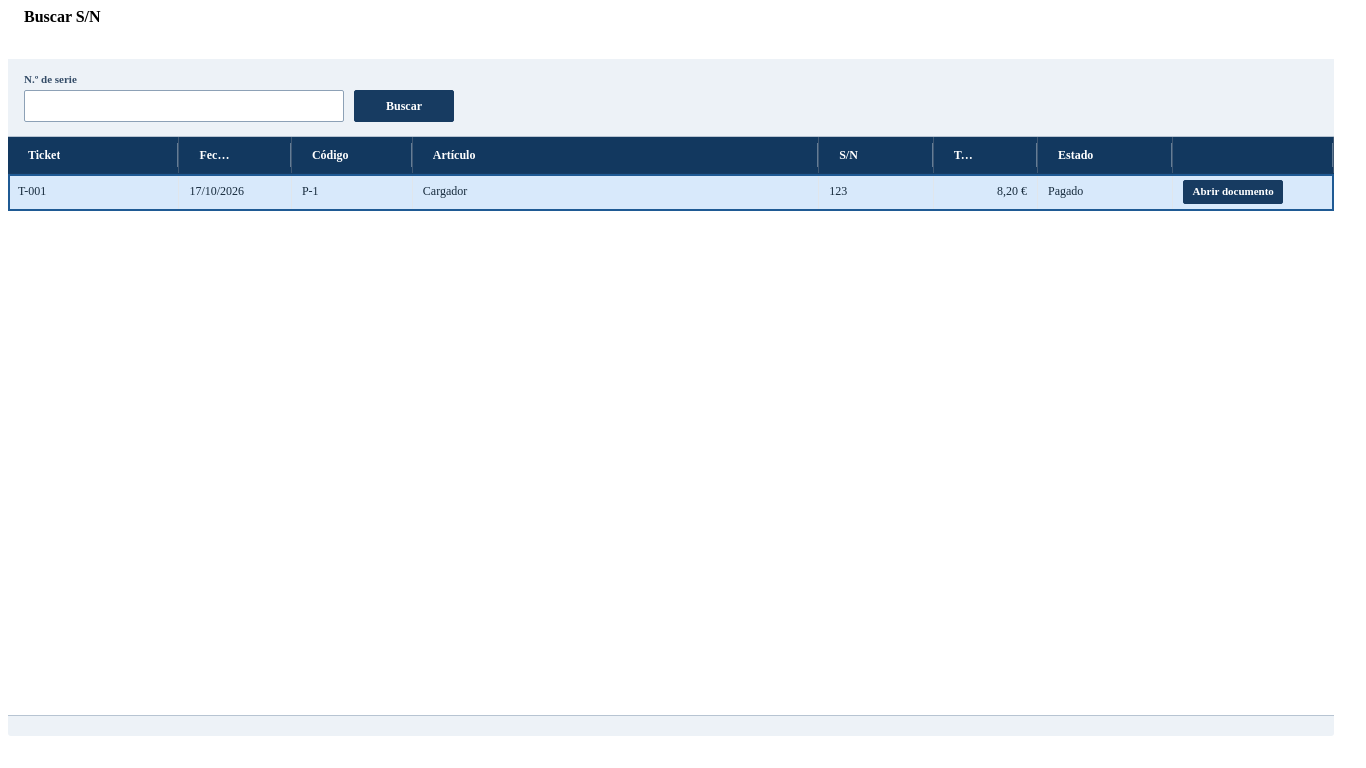
it: Ticket serial search › keeps typing enabled and discards a late response for an older filter
Check: the text "T-001" is shown, box [8,174,179,210]
Type "old" into the field at (184, 106), box [24,90,344,122]
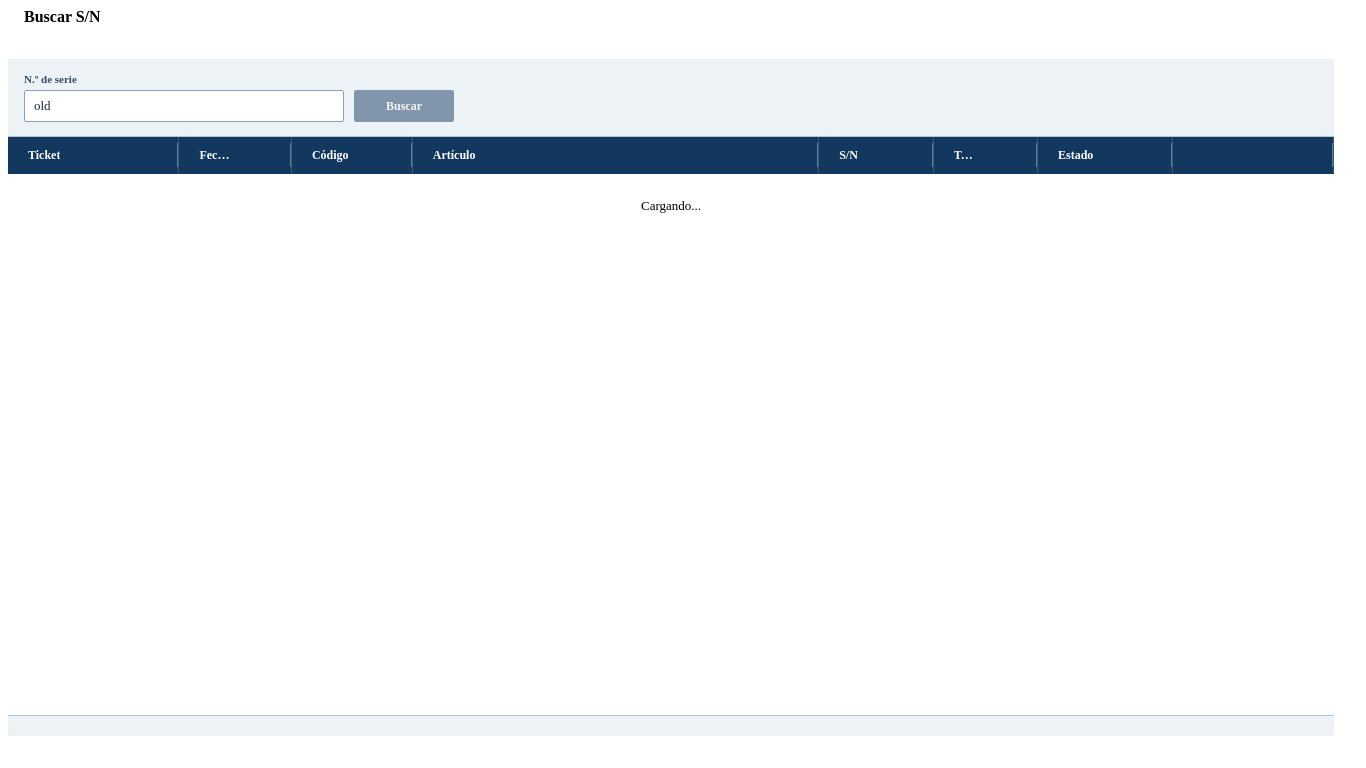
Replace the text in the field with "new" at (184, 106), box [24,90,344,122]
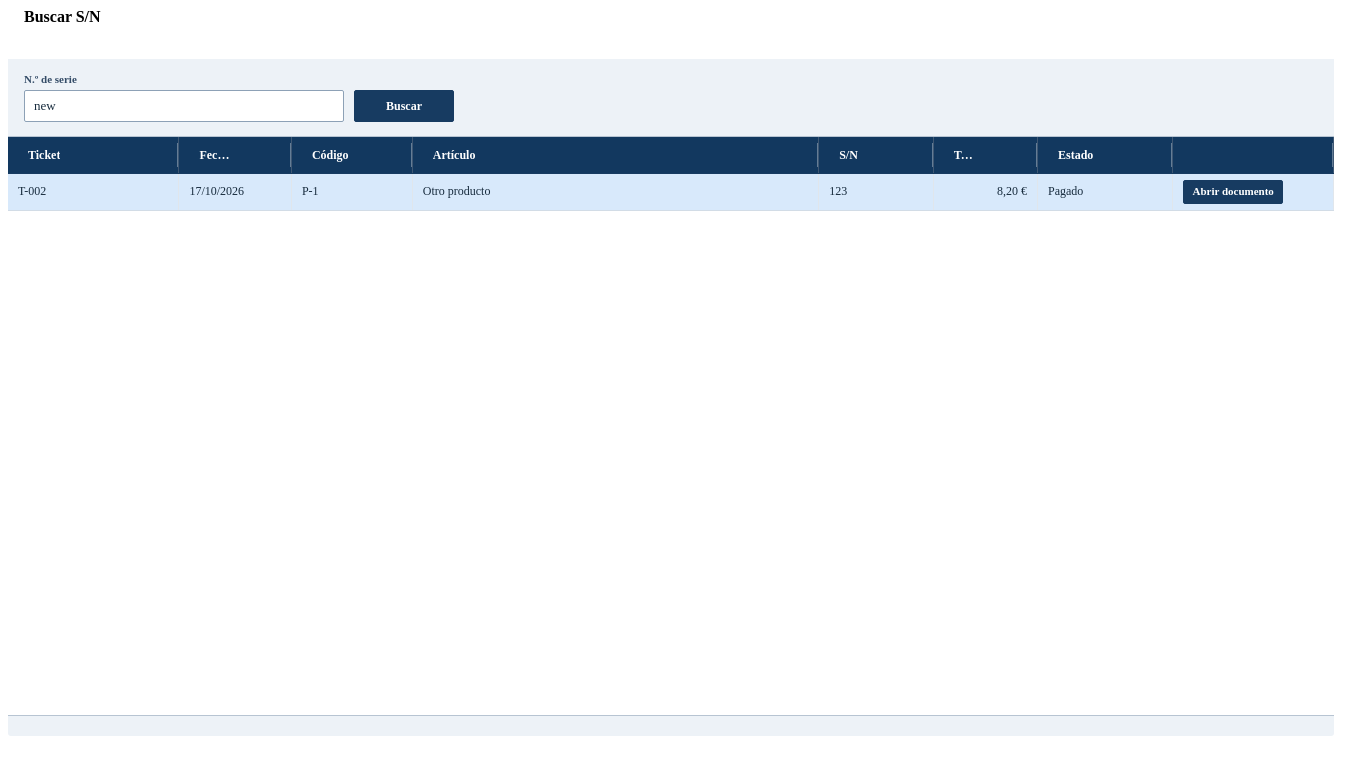
Check: the text "T-001" is not shown
Check: the text "T-002" is shown, box [8,174,179,210]
